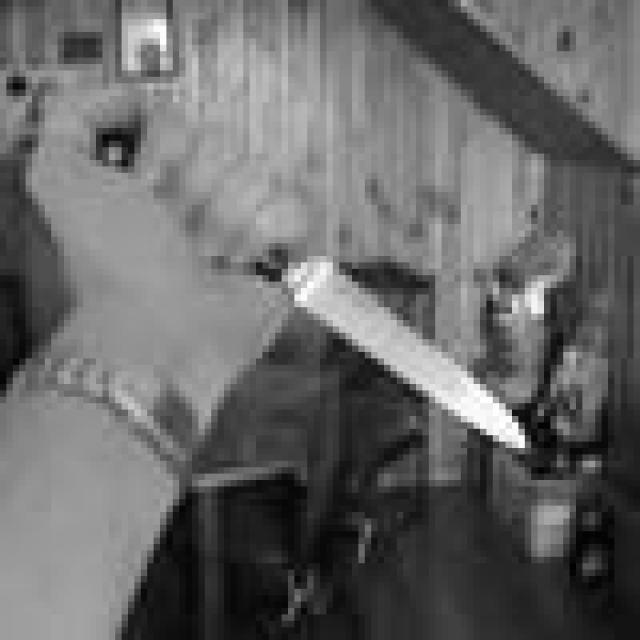knife: (100, 132, 536, 460)
